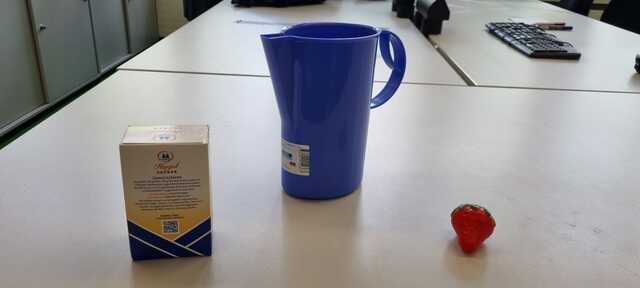004_sugar_box: (118, 125, 216, 262)
012_strawberry: (450, 204, 496, 256)
019_pitcher_base: (259, 21, 407, 201)
